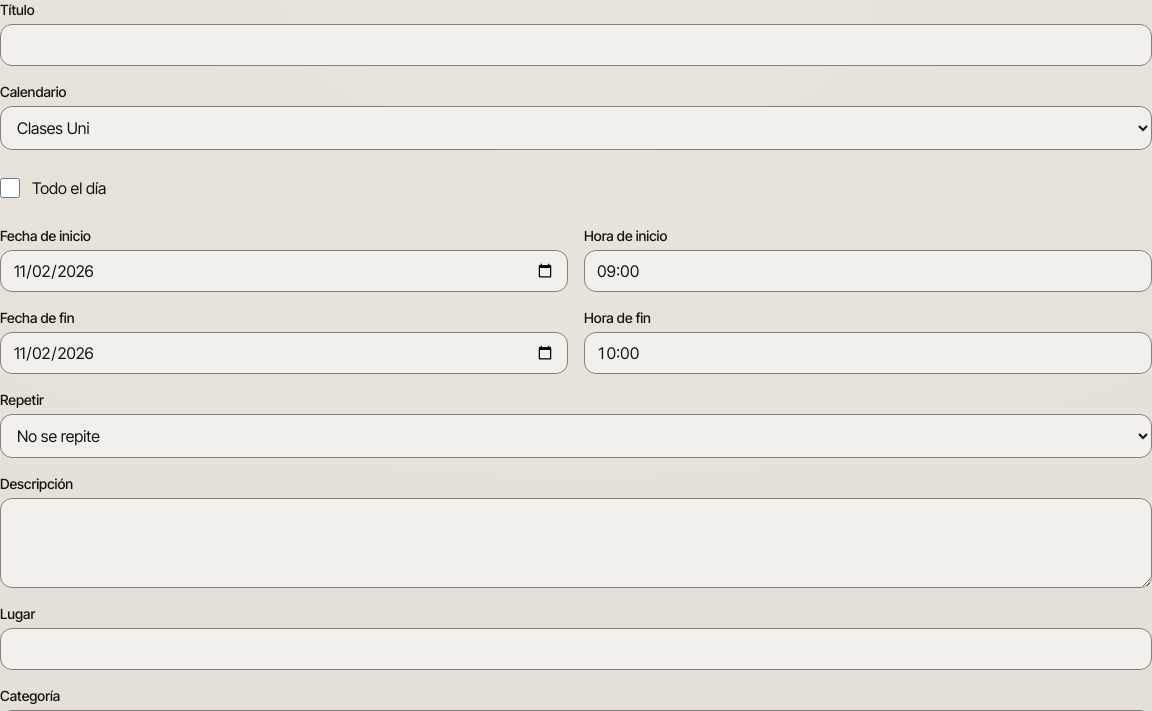
Test: EventForm: Repetir (spec 013 RF-1, RF-2, RF-29) › is disabled with its reason in a calendar of Google
Expected: the dropdown labelled "Repetir" is enabled, [0,414,1151,458]
Select "Google" in the dropdown labelled "Calendario" at (576, 128), box [0,106,1151,150]
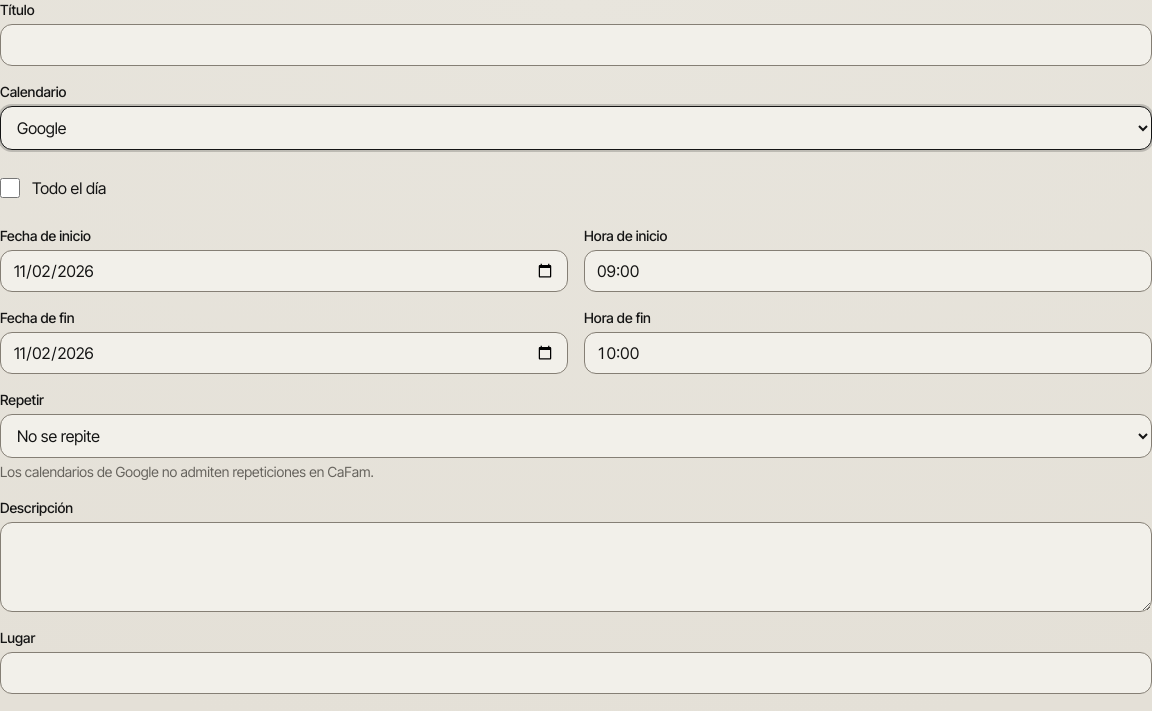
Expected: the dropdown labelled "Repetir" is disabled, [0,414,1151,458]
Expected: the text "Los calendarios de Google no admiten repeticiones en CaFam." is shown, [0,463,374,480]
